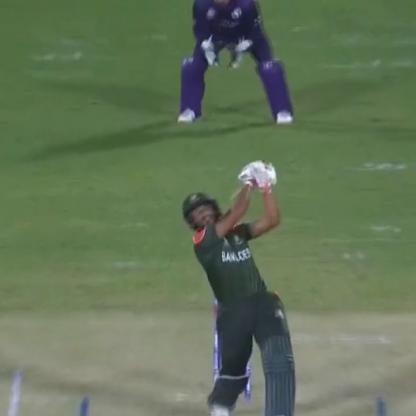bat: (227, 156, 275, 206)
pitch: (6, 360, 416, 415)
